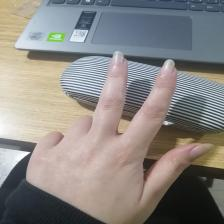three: (23, 49, 214, 213)
